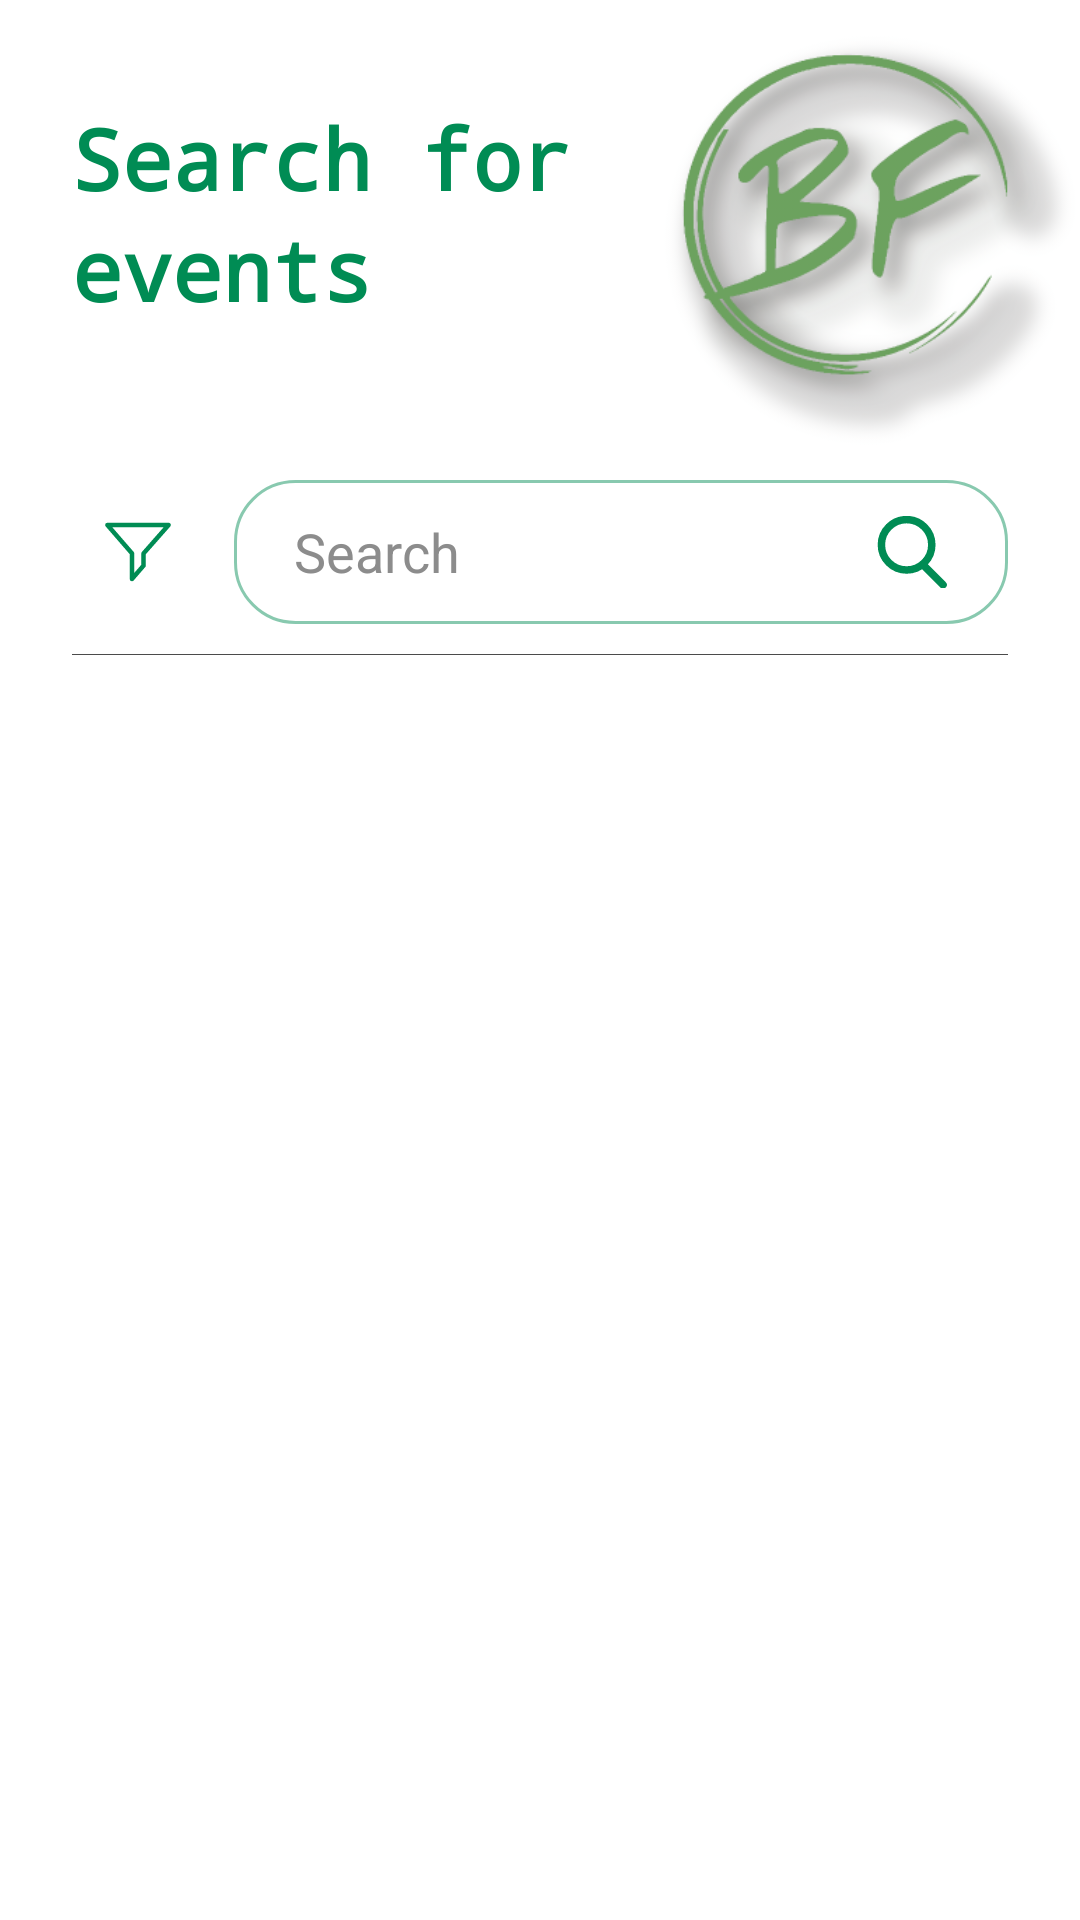

Icon click points for this 1080px x 1920px phone screenshot, format (x,y):
filter: (138,552)
